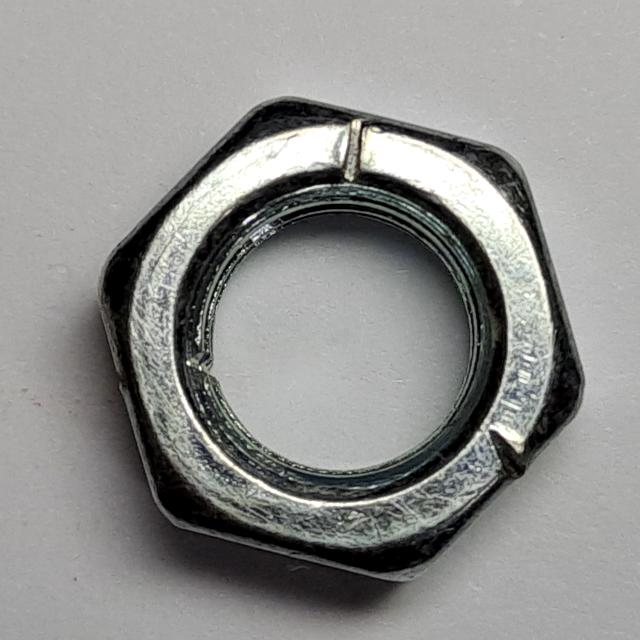Scratches: (87, 87, 605, 593)
